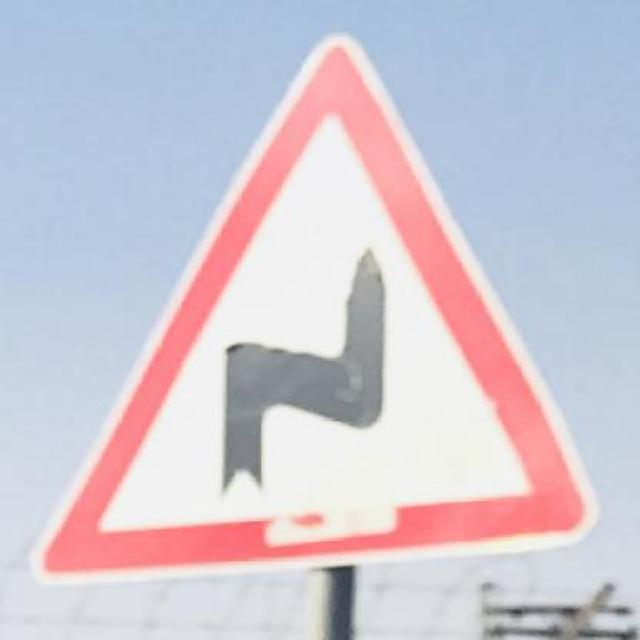right reverse bend: (29, 28, 606, 585)
